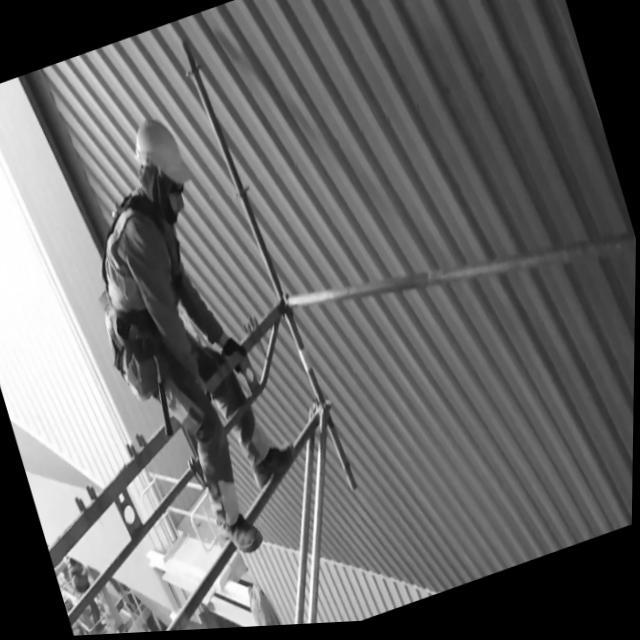belt: (58, 153, 220, 406)
